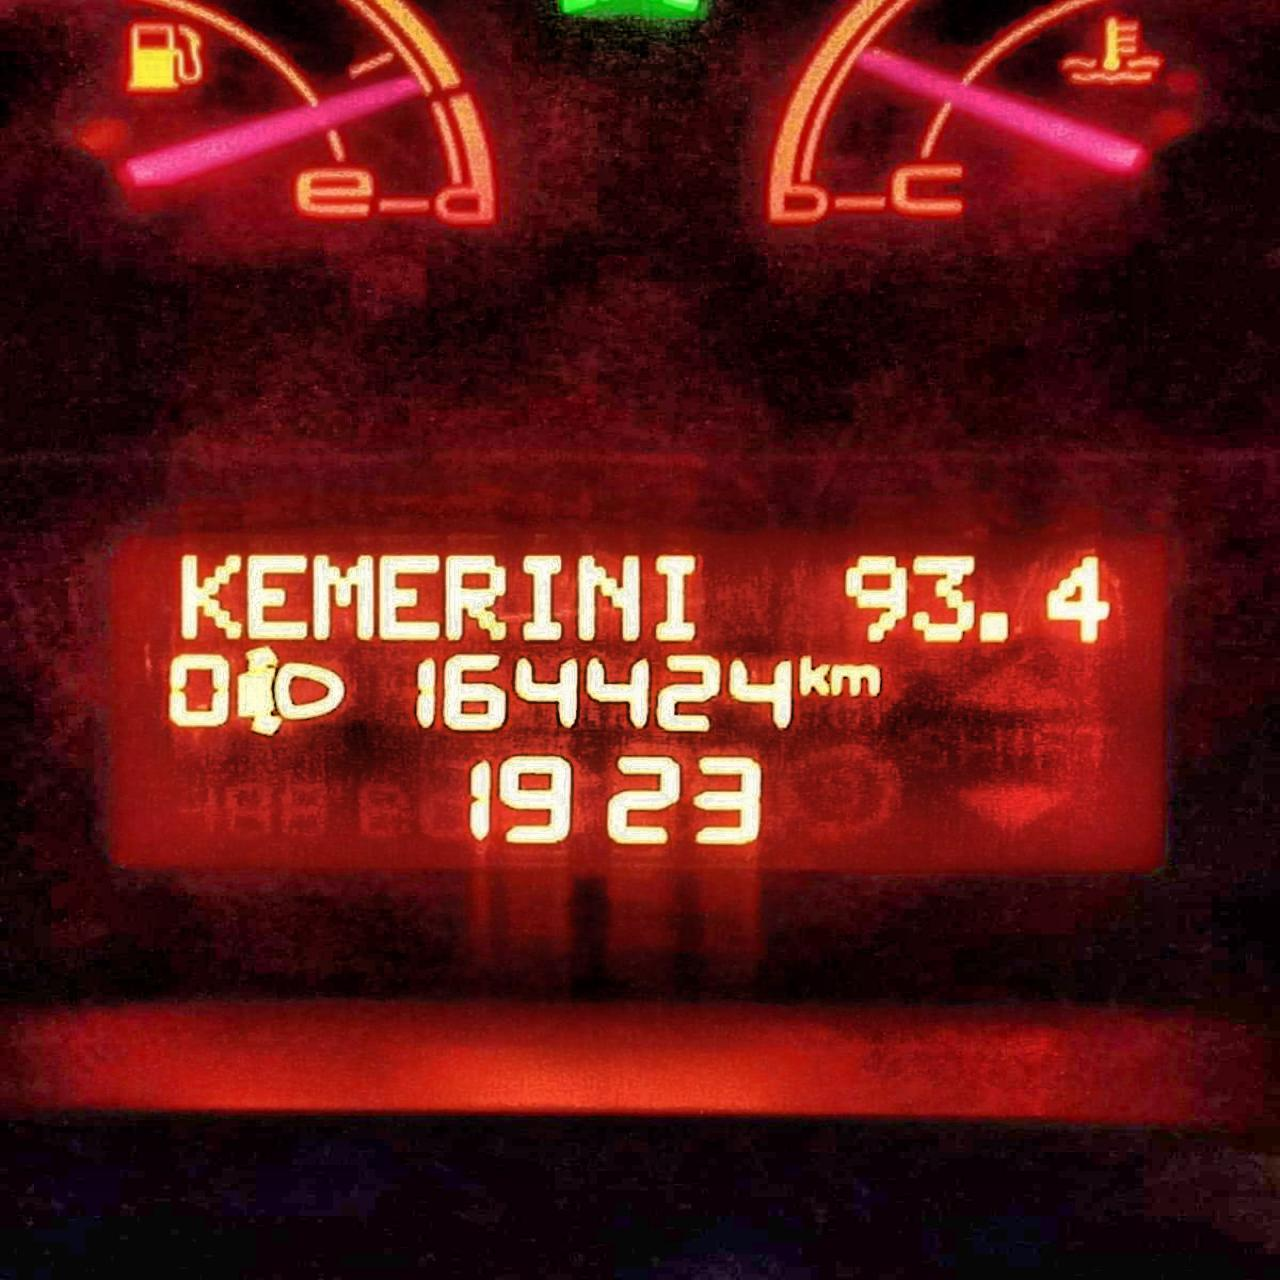-: (980, 605, 1013, 647)
0: (162, 649, 232, 735)
1: (463, 749, 498, 853), (407, 647, 438, 741)
2: (604, 749, 679, 849), (658, 645, 720, 737)
3: (693, 753, 764, 852), (910, 551, 976, 647)
4: (1043, 552, 1112, 649), (723, 652, 792, 736), (511, 651, 581, 729), (581, 649, 651, 729)
6: (443, 649, 508, 736)
9: (501, 748, 577, 846), (842, 551, 906, 644)
X: (576, 550, 642, 645), (178, 550, 247, 640), (377, 550, 441, 644), (313, 549, 375, 644), (246, 552, 305, 644), (445, 551, 503, 641), (653, 550, 702, 642), (519, 551, 565, 647), (829, 661, 884, 697), (798, 652, 829, 697)
odometer: (103, 519, 1191, 885)
